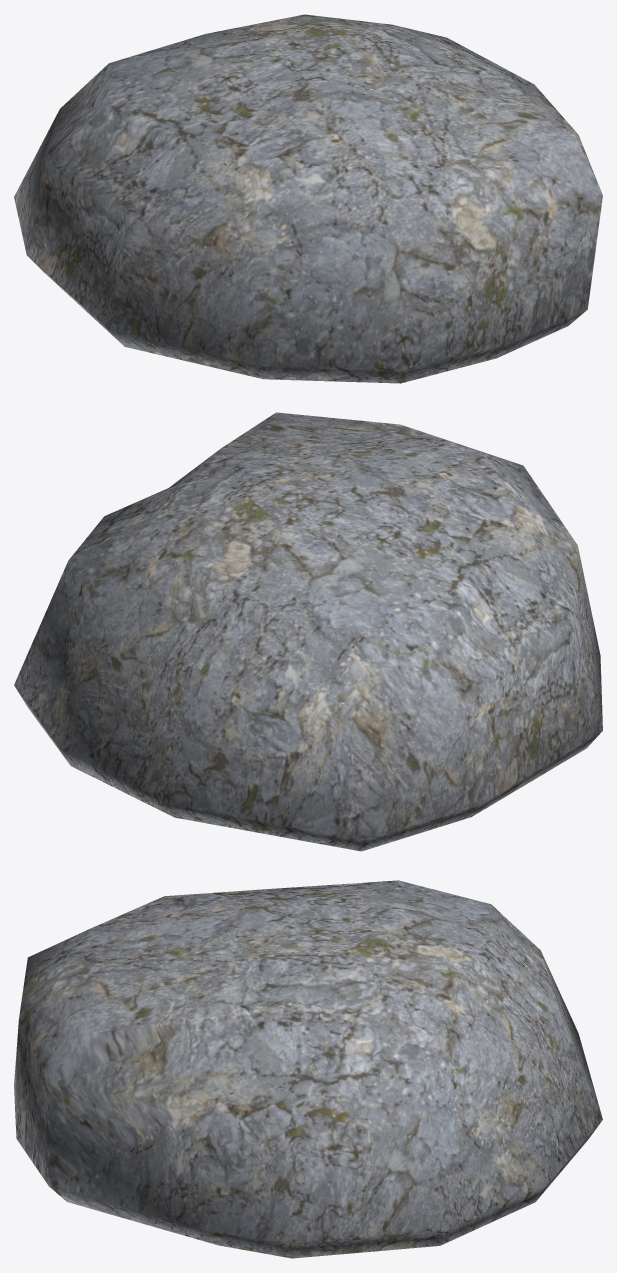
The model's file is GardenStone01.fbx.
The picture shows the model from 3 angles, top to bottom: view 1: azimuth 30°, elevation 25°; view 2: azimuth 150°, elevation 25°; view 3: azimuth 270°, elevation 25°; orthographic projection. The views are drawn at different scales.
Visible parts, largest first — view 1: GardenStone01; view 2: GardenStone01; view 3: GardenStone01.
Part boxes in pixels (x1=…): GardenStone01: x1=14, y1=14, x2=602, y2=383; GardenStone01: x1=14, y1=412, x2=602, y2=851; GardenStone01: x1=14, y1=880, x2=602, y2=1258.
Size of the model in its own units: 136 by 55.25 by 139.
